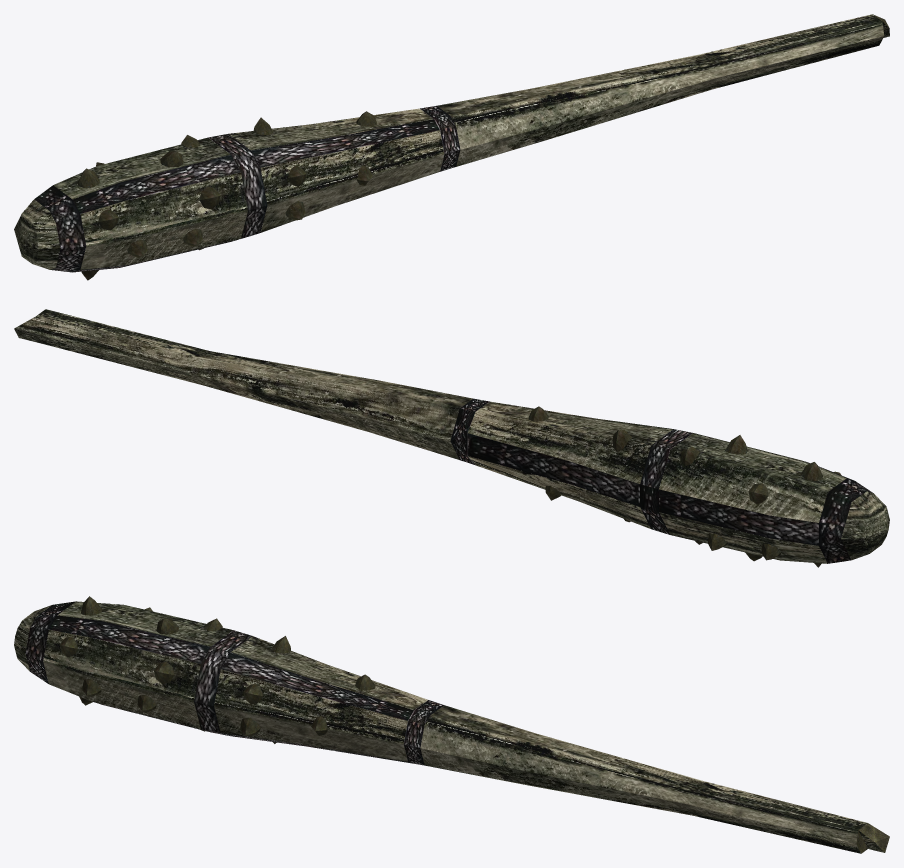
Rendered from ITMW_CLUB_2H_01.glb.
The picture shows the model from 3 angles, top to bottom: view 1: azimuth 30°, elevation 25°; view 2: azimuth 150°, elevation 25°; view 3: azimuth 330°, elevation 25°; orthographic projection. The views are drawn at different scales.
Parts seen in each view (by area): view 1: ITMW_CLUB_2H_01; view 2: ITMW_CLUB_2H_01; view 3: ITMW_CLUB_2H_01.
Part boxes in pixels (<box>): ITMW_CLUB_2H_01: <box>14,14,889,280</box>; ITMW_CLUB_2H_01: <box>14,309,889,567</box>; ITMW_CLUB_2H_01: <box>14,596,889,853</box>.
Bounding box in the file's own units: 1.59 × 0.1967 × 0.174.
4 materials, 4 textured.
